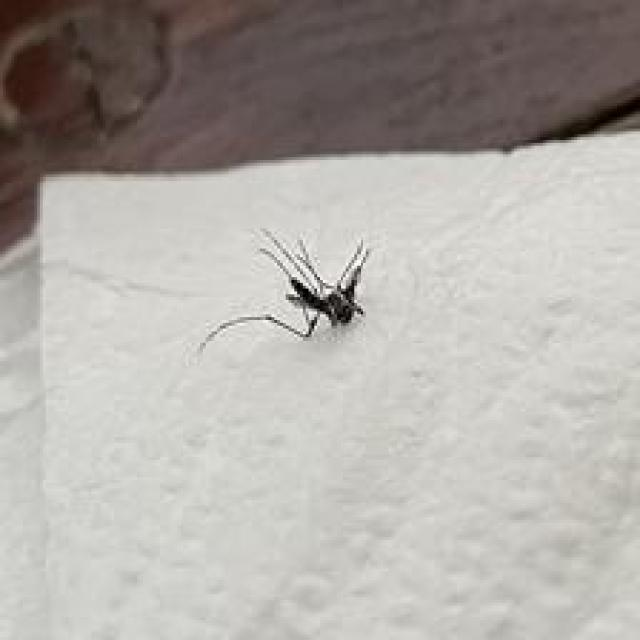Aedes albopictus: (197, 226, 372, 354)
